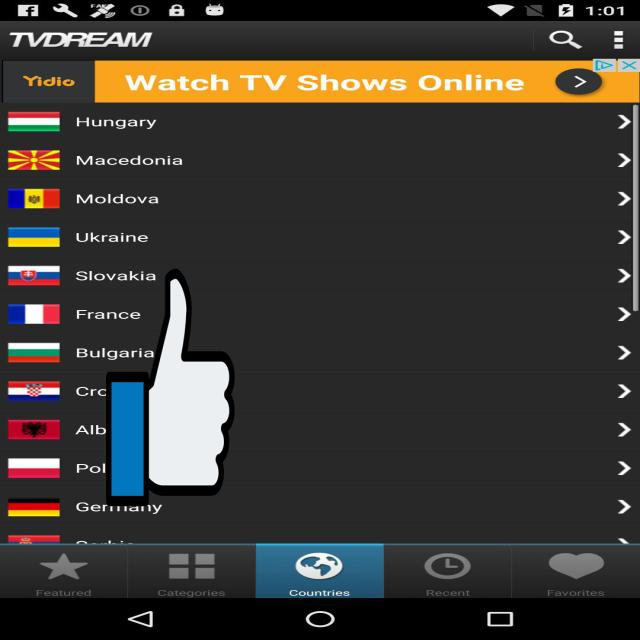privacy zuckering: (106, 264, 235, 512)
